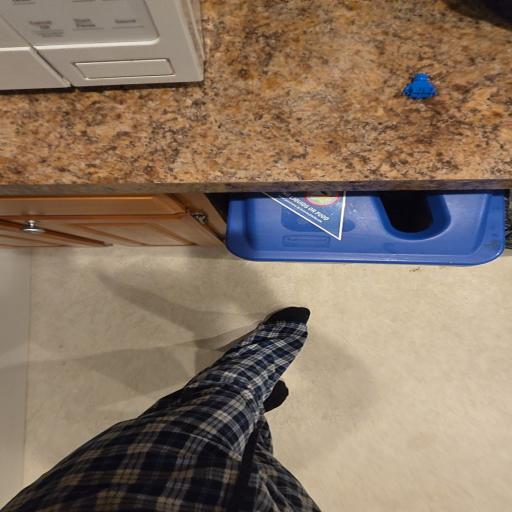Blue: (402, 73, 435, 99)
